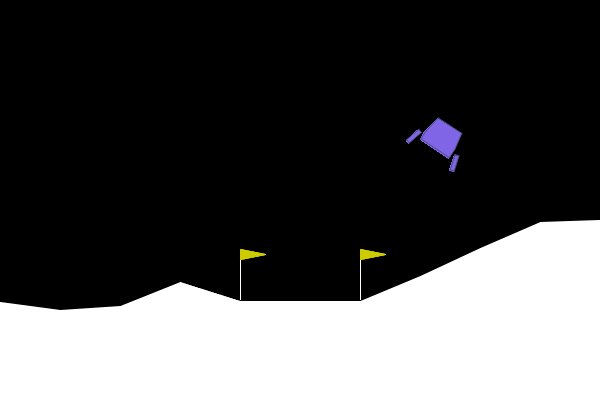lander: (404, 108, 476, 174)
